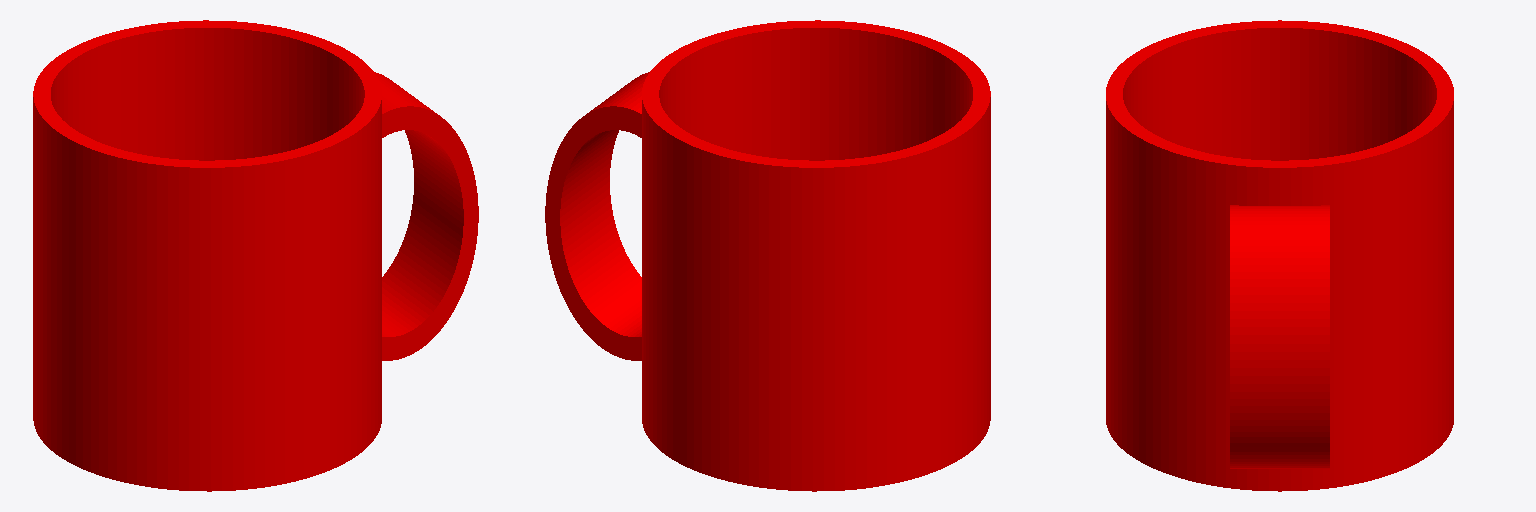
The robot description file, URDF, robot "mug.urdf":
<?xml version="1.0" ?>
<robot name="mug.urdf">
  <link name="baseLink">
    <inertial>
      <origin rpy="0 0 0" xyz="0 0 0"/>
       <mass value=".1"/>
       <inertia ixx="1" ixy="0" ixz="0" iyy="1" iyz="0" izz="1"/>
    </inertial>
    <contact>
      <lateral_friction value="1.0"/>
      <inertia_scaling value="3.0"/>
    </contact>
    <visual>
      <origin rpy="0 0 0" xyz="0 0 0"/>
      <geometry>
        <mesh filename="10.stl" scale="1 1 1" />
      </geometry>
      <material name="red">
        <color rgba="1 0 0 1"/>
      </material>
    </visual>
    <collision>
      <origin rpy="0 0 0" xyz="0 0 0"/>
      <geometry>
        <mesh filename="10_convex.obj" scale="1 1 1" />
      </geometry>
    </collision>
  </link>
</robot>

--- What the picture shows (computed from the rendered views, not written in the file) ---
3 views of the same robot in one strip: view 1: azimuth 30°, elevation 25°; view 2: azimuth 150°, elevation 25°; view 3: azimuth 270°, elevation 25° (orthographic).
Robot: mug.urdf — 1 links, 0 joints (none); root link baseLink; default pose: all joints at 0.
Links seen in each view (by area): view 1: baseLink; view 2: baseLink; view 3: baseLink.
Link boxes in pixels (left/top/right/bottom): baseLink: left=33, top=20, right=478, bottom=491; baseLink: left=545, top=20, right=990, bottom=491; baseLink: left=1106, top=20, right=1453, bottom=491.
Size in the robot's own frame: 0.133 by 0.1012 by 0.1036 metres.
1 mesh visuals loaded from 1 distinct referenced files (1 binary STL).